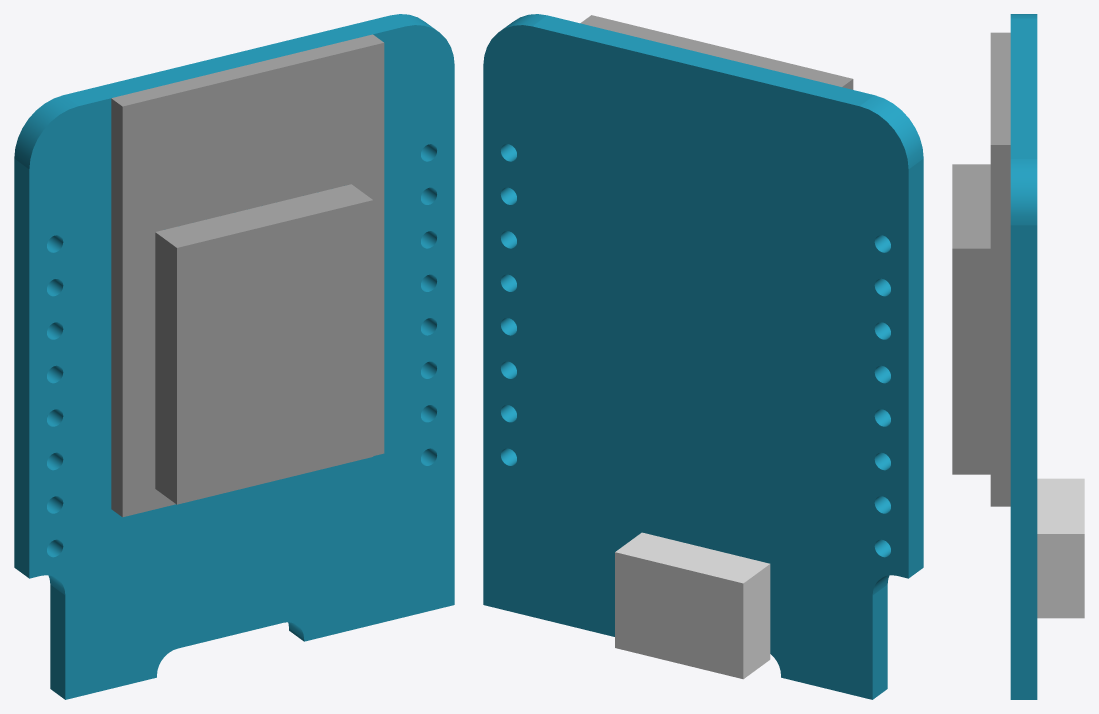
Rendered from WEMOS_D1_mini_light.glb.
3 renders of one model, left to right at view 1: azimuth 30°, elevation 25°; view 2: azimuth 150°, elevation 25°; view 3: azimuth 270°, elevation 25°, orthographic. The views are drawn at different scales.
Visible parts, largest first — view 1: Shape_IndexedFaceSet.001, Shape_IndexedFaceSet.048, Shape_IndexedFaceSet.040, Shape_IndexedFaceSet, Shape_IndexedFaceSet.045, Shape_IndexedFaceSet.005, Shape_IndexedFaceSet.006, Shape_IndexedFaceSet.046, Shape_IndexedFaceSet.039, Shape_IndexedFaceSet.018, Shape_IndexedFaceSet.004; view 2: Shape_IndexedFaceSet.003, Shape_IndexedFaceSet.042, Shape_IndexedFaceSet, Shape_IndexedFaceSet.005, Shape_IndexedFaceSet.037, Shape_IndexedFaceSet.039, Shape_IndexedFaceSet.038, Shape_IndexedFaceSet.018, Shape_IndexedFaceSet.004; view 3: Shape_IndexedFaceSet.010, Shape_IndexedFaceSet.047, Shape_IndexedFaceSet.008, Shape_IndexedFaceSet.036, Shape_IndexedFaceSet.005, Shape_IndexedFaceSet.046, Shape_IndexedFaceSet.037, Shape_IndexedFaceSet.039, Shape_IndexedFaceSet.009.
Boxes of the visible parts, bbox=[...] form: Shape_IndexedFaceSet.001: bbox=[29, 25, 454, 699]; Shape_IndexedFaceSet.048: bbox=[177, 200, 373, 504]; Shape_IndexedFaceSet.040: bbox=[122, 43, 384, 516]; Shape_IndexedFaceSet: bbox=[14, 159, 29, 578]; Shape_IndexedFaceSet.045: bbox=[155, 232, 176, 504]; Shape_IndexedFaceSet.005: bbox=[63, 15, 405, 105]; Shape_IndexedFaceSet.006: bbox=[111, 98, 122, 516]; Shape_IndexedFaceSet.046: bbox=[155, 184, 372, 247]; Shape_IndexedFaceSet.039: bbox=[111, 34, 383, 106]; Shape_IndexedFaceSet.018: bbox=[50, 585, 65, 699]; Shape_IndexedFaceSet.004: bbox=[14, 95, 77, 168]; Shape_IndexedFaceSet.003: bbox=[483, 25, 908, 699]; Shape_IndexedFaceSet.042: bbox=[615, 552, 743, 678]; Shape_IndexedFaceSet: bbox=[908, 159, 923, 578]; Shape_IndexedFaceSet.005: bbox=[532, 15, 874, 105]; Shape_IndexedFaceSet.037: bbox=[615, 532, 769, 583]; Shape_IndexedFaceSet.039: bbox=[580, 15, 852, 86]; Shape_IndexedFaceSet.038: bbox=[743, 564, 770, 678]; Shape_IndexedFaceSet.018: bbox=[872, 585, 887, 699]; Shape_IndexedFaceSet.004: bbox=[860, 95, 923, 168]; Shape_IndexedFaceSet.010: bbox=[1010, 225, 1037, 699]; Shape_IndexedFaceSet.047: bbox=[952, 248, 990, 474]; Shape_IndexedFaceSet.008: bbox=[990, 145, 1010, 506]; Shape_IndexedFaceSet.036: bbox=[1037, 534, 1084, 618]; Shape_IndexedFaceSet.005: bbox=[1010, 18, 1037, 158]; Shape_IndexedFaceSet.046: bbox=[952, 164, 990, 248]; Shape_IndexedFaceSet.037: bbox=[1037, 478, 1084, 533]; Shape_IndexedFaceSet.039: bbox=[990, 32, 1010, 144]; Shape_IndexedFaceSet.009: bbox=[1010, 159, 1037, 225].
Bounding box in the file's own units: 10.24 × 13.58 × 3.13.
